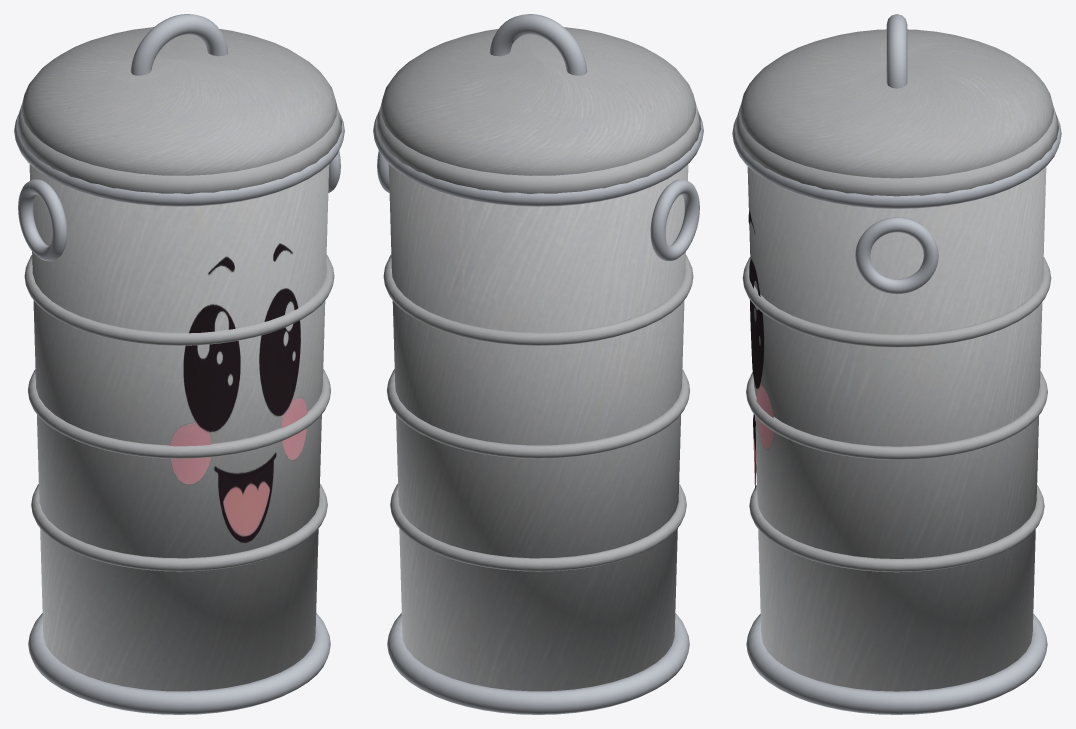
File: player_can.glb
3 renders of one model, left to right at view 1: azimuth 30°, elevation 25°; view 2: azimuth 150°, elevation 25°; view 3: azimuth 270°, elevation 25°, orthographic.
Visible parts, largest first — view 1: Cone, Sphere, face, Torus, Cone.001, Torus.003, Torus.002, Torus.001, Torus.004, Torus.005, Torus.006; view 2: Cone, Sphere, Torus, Cone.001, Torus.003, Torus.002, Torus.001, Torus.004, Torus.005, Torus.006; view 3: Cone, Sphere, Torus, Cone.001, Torus.003, Torus.002, Torus.001, Torus.004, Torus.007, face, Torus.005.
Boxes of the visible parts, box(x1,y1,x2,y2) form: Cone: box(29, 164, 329, 691); Sphere: box(22, 27, 336, 175); face: box(170, 243, 307, 544); Torus: box(28, 613, 330, 714); Cone.001: box(16, 103, 341, 193); Torus.003: box(24, 255, 334, 345); Torus.002: box(28, 369, 330, 458); Torus.001: box(31, 484, 327, 571); Torus.004: box(14, 111, 344, 206); Torus.005: box(130, 14, 228, 75); Torus.006: box(18, 179, 67, 261); Cone: box(388, 164, 688, 691); Sphere: box(381, 27, 695, 175); Torus: box(387, 613, 689, 714); Cone.001: box(376, 103, 701, 193); Torus.003: box(383, 255, 693, 345); Torus.002: box(387, 369, 689, 458); Torus.001: box(390, 484, 686, 571); Torus.004: box(373, 111, 703, 206); Torus.005: box(489, 14, 587, 75); Torus.006: box(650, 179, 699, 261); Cone: box(747, 166, 1046, 691); Sphere: box(740, 29, 1053, 178); Torus: box(746, 614, 1047, 714); Cone.001: box(735, 102, 1058, 196); Torus.003: box(742, 257, 1051, 347); Torus.002: box(746, 371, 1047, 459); Torus.001: box(749, 485, 1044, 572); Torus.004: box(732, 117, 1061, 208); Torus.007: box(855, 217, 938, 294); face: box(748, 211, 773, 490); Torus.005: box(886, 14, 907, 88).
Size of the model in its own units: 0.964 by 2.05 by 0.964.
3 materials, 2 textured.
